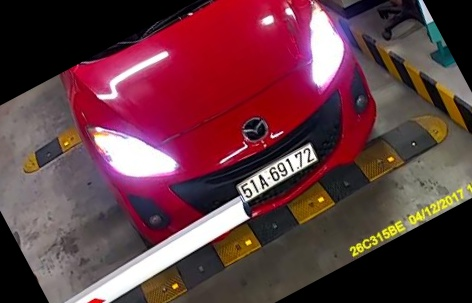plate: (232, 141, 322, 204)
